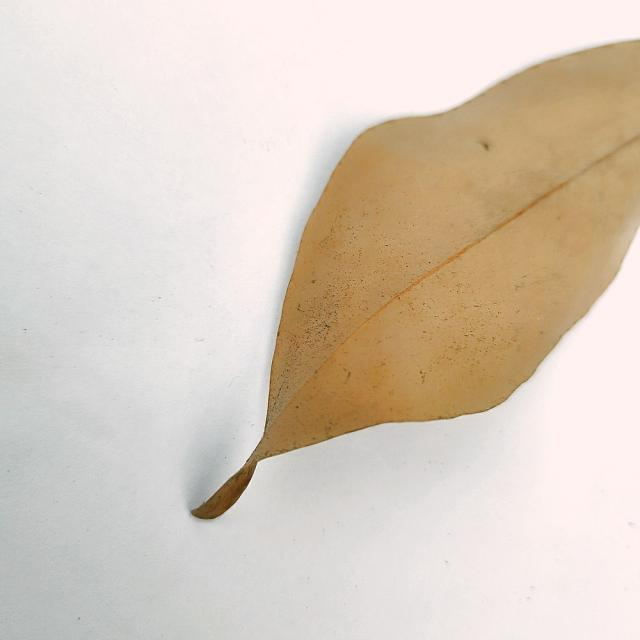Dry_Leaf-Lychee: (191, 38, 639, 522)
